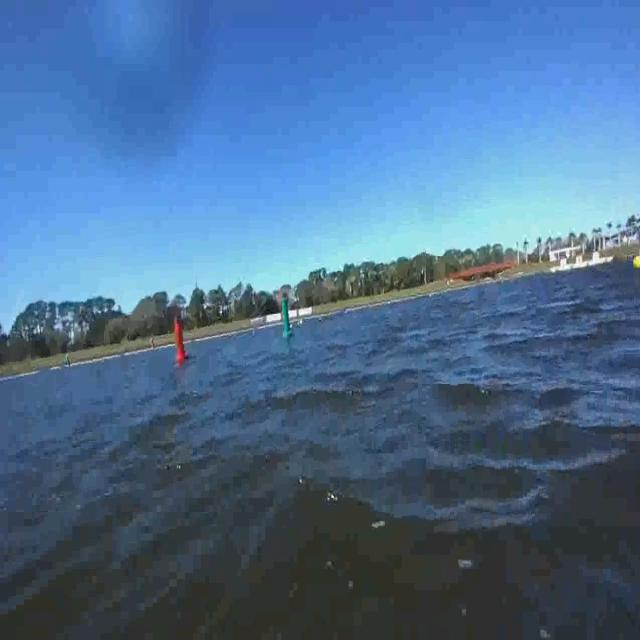green-column-buoy: (276, 286, 296, 345)
red-column-buoy: (166, 300, 191, 374)
